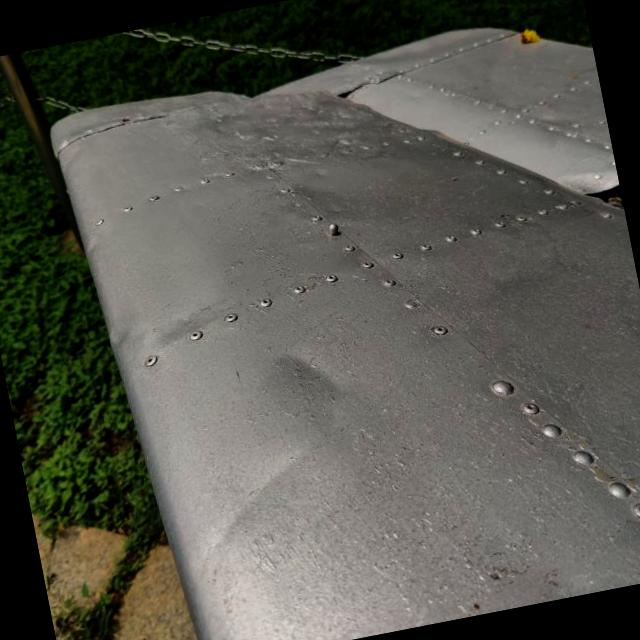dent: (160, 432, 342, 582), (248, 308, 371, 432)
